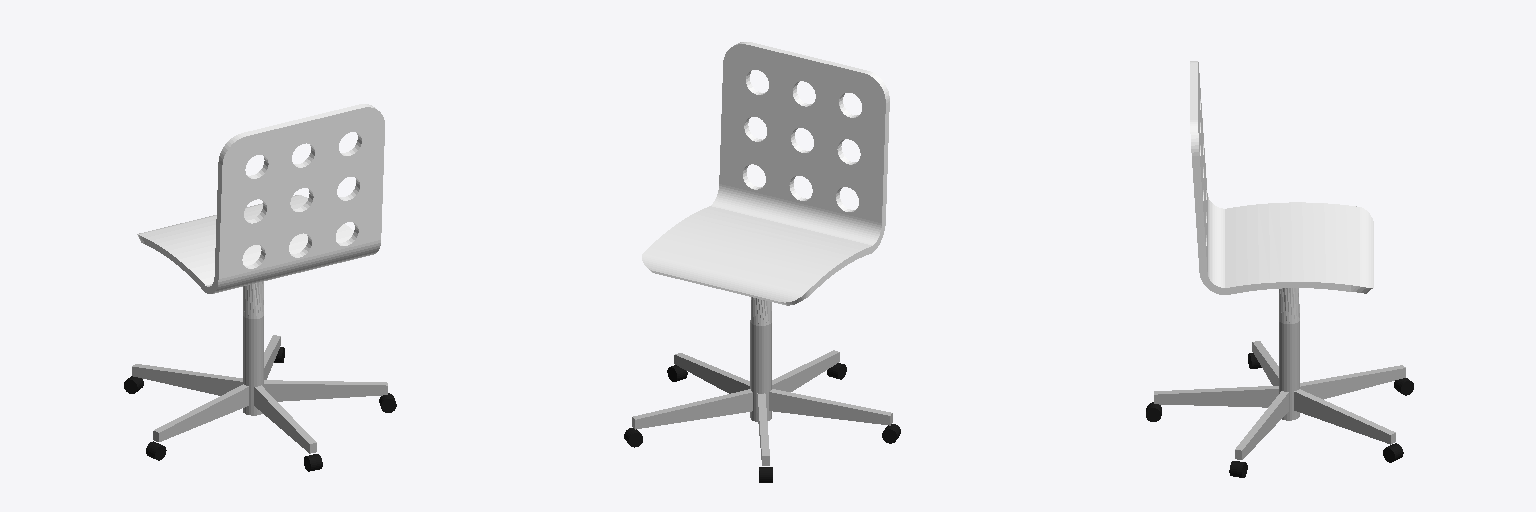
3 views of the same model, side by side, from view 1: azimuth 30°, elevation 25°; view 2: azimuth 150°, elevation 25°; view 3: azimuth 270°, elevation 25° (orthographic).
Parts seen in each view (by area): view 1: Mesh1 Group2 Group1 Model, Mesh12 Group3 ske3F1 Group1 Model, Mesh5 Group5 Group3 ske3F1 Group1 Model, Mesh7 Group6 Group3 ske3F1 Group1 Model, Mesh3 Group4 Group3 ske3F1 Group1 Model, Mesh9 Group7 Group3 ske3F1 Group1 Model; view 2: Mesh1 Group2 Group1 Model, Mesh12 Group3 ske3F1 Group1 Model, Mesh7 Group6 Group3 ske3F1 Group1 Model, Mesh11 Group8 Group3 ske3F1 Group1 Model, Mesh5 Group5 Group3 ske3F1 Group1 Model, Mesh9 Group7 Group3 ske3F1 Group1 Model, Mesh3 Group4 Group3 ske3F1 Group1 Model; view 3: Mesh1 Group2 Group1 Model, Mesh12 Group3 ske3F1 Group1 Model, Mesh9 Group7 Group3 ske3F1 Group1 Model, Mesh11 Group8 Group3 ske3F1 Group1 Model, Mesh3 Group4 Group3 ske3F1 Group1 Model, Mesh5 Group5 Group3 ske3F1 Group1 Model, Mesh7 Group6 Group3 ske3F1 Group1 Model.
Boxes of the visible parts, x1,y1,x2,y2 form: Mesh1 Group2 Group1 Model: [137, 104, 384, 293]; Mesh12 Group3 ske3F1 Group1 Model: [243, 282, 263, 415]; Mesh5 Group5 Group3 ske3F1 Group1 Model: [264, 380, 387, 401]; Mesh7 Group6 Group3 ske3F1 Group1 Model: [153, 384, 248, 441]; Mesh3 Group4 Group3 ske3F1 Group1 Model: [132, 364, 242, 395]; Mesh9 Group7 Group3 ske3F1 Group1 Model: [254, 385, 316, 453]; Mesh1 Group2 Group1 Model: [642, 42, 889, 305]; Mesh12 Group3 ske3F1 Group1 Model: [750, 297, 771, 421]; Mesh7 Group6 Group3 ske3F1 Group1 Model: [769, 389, 892, 425]; Mesh11 Group8 Group3 ske3F1 Group1 Model: [632, 389, 752, 429]; Mesh5 Group5 Group3 ske3F1 Group1 Model: [674, 353, 749, 393]; Mesh9 Group7 Group3 ske3F1 Group1 Model: [772, 350, 839, 391]; Mesh3 Group4 Group3 ske3F1 Group1 Model: [757, 393, 769, 465]; Mesh1 Group2 Group1 Model: [1190, 61, 1373, 294]; Mesh12 Group3 ske3F1 Group1 Model: [1279, 288, 1299, 420]; Mesh9 Group7 Group3 ske3F1 Group1 Model: [1154, 386, 1278, 407]; Mesh11 Group8 Group3 ske3F1 Group1 Model: [1294, 389, 1395, 444]; Mesh3 Group4 Group3 ske3F1 Group1 Model: [1300, 365, 1405, 399]; Mesh5 Group5 Group3 ske3F1 Group1 Model: [1235, 391, 1288, 459]; Mesh7 Group6 Group3 ske3F1 Group1 Model: [1252, 341, 1278, 385].
Size of the model in its own units: 0.5499 by 0.73 by 0.5347.